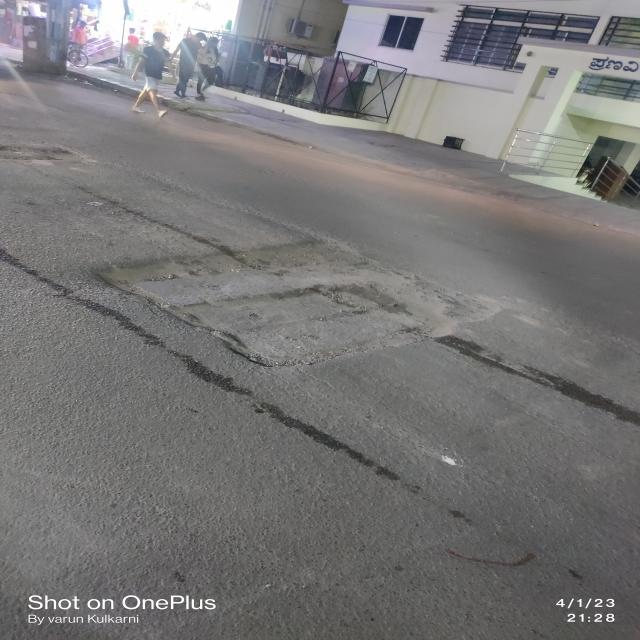potholes: (95, 246, 488, 366)
